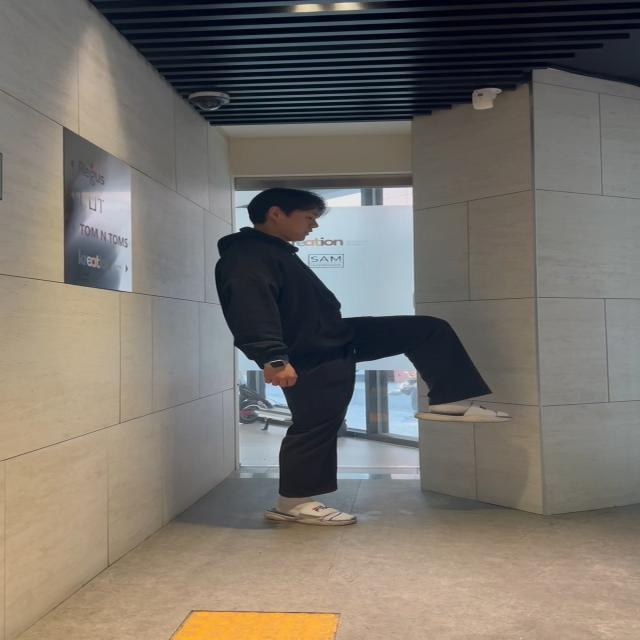knee: (355, 312, 509, 426)
